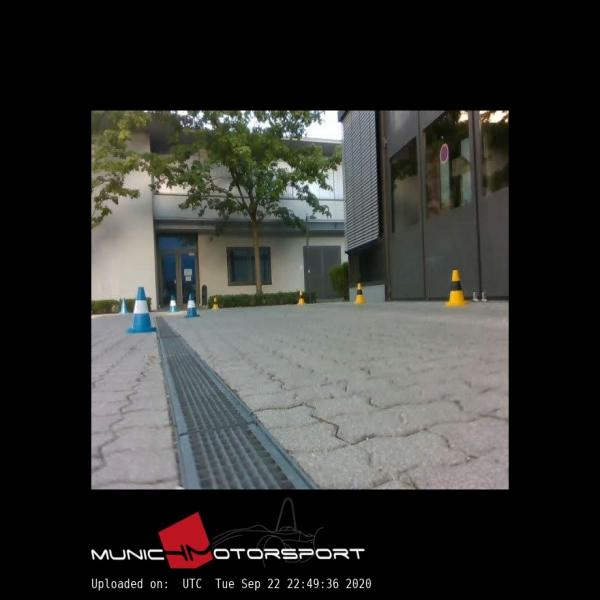blue_cone: (128, 288, 156, 332), (184, 294, 200, 316), (168, 294, 179, 312), (120, 298, 128, 312)
yellow_cone: (446, 270, 468, 306), (354, 283, 365, 304), (297, 290, 306, 306), (212, 297, 219, 310)
